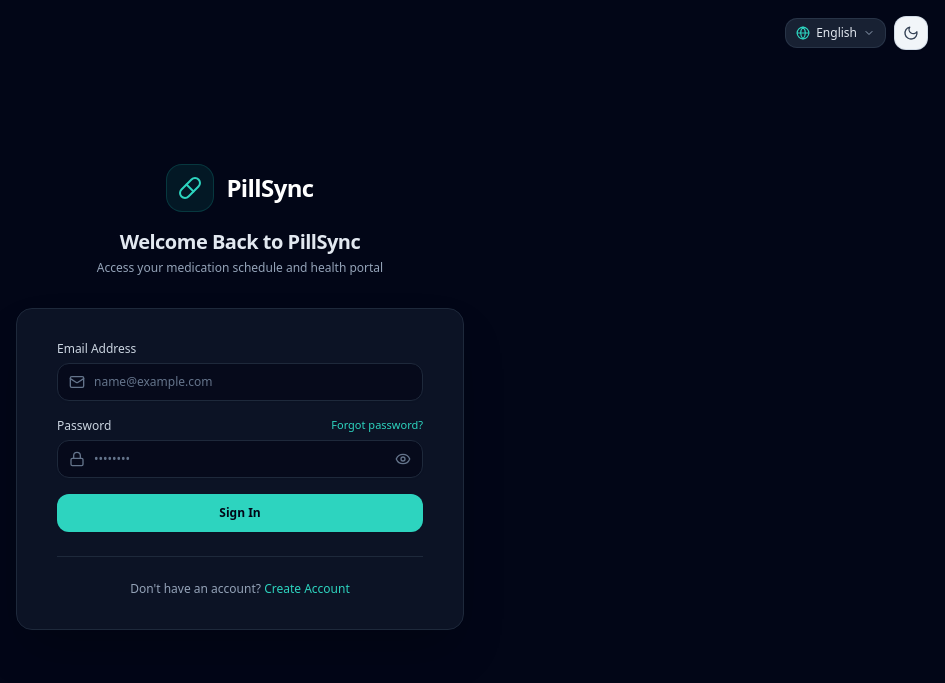
Login Component › displays error message on authentication failure
Type "wrong@example.com" into the field labelled "Email Address".
click(240, 382); type("wrong@example.com")  # box [57,363,423,401]
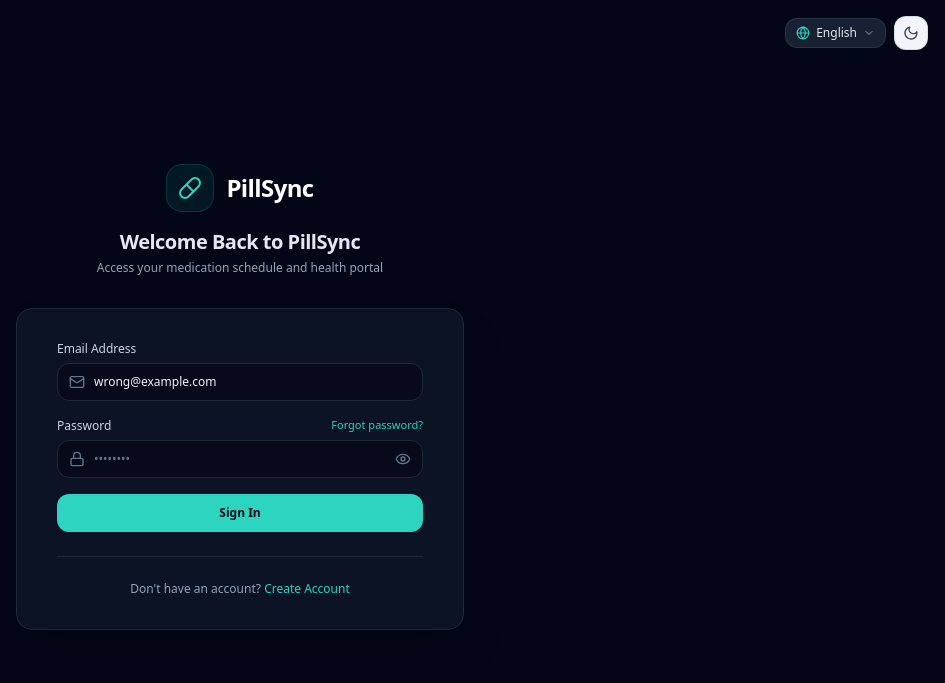
Type "wrongpass" into the password field labelled "Password".
click(240, 459); type("wrongpass")  # box [57,440,423,478]
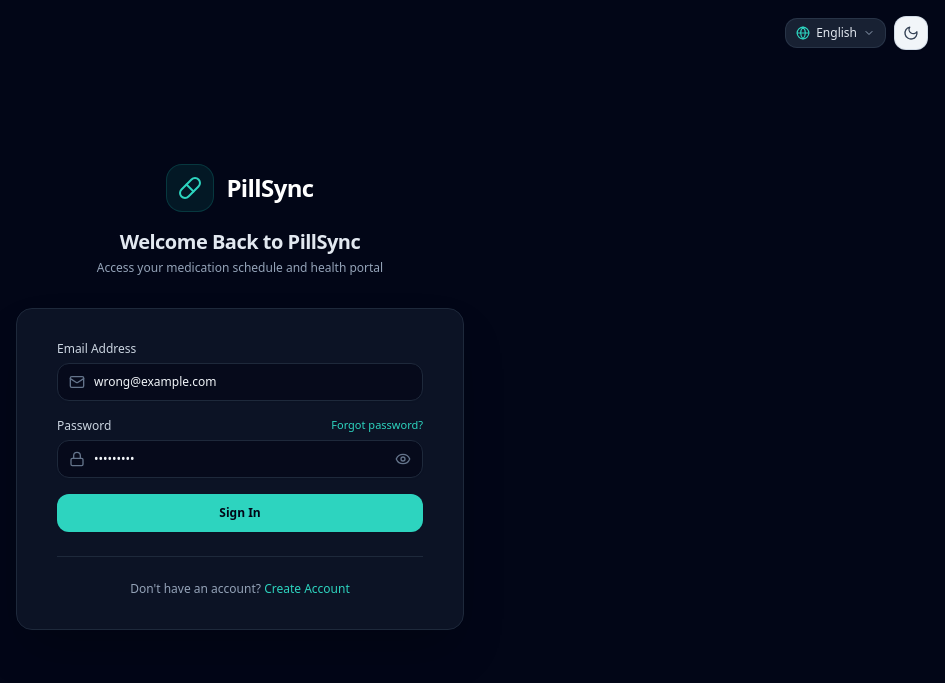
Click the button "Sign In".
click(240, 513)  # box [57,494,423,532]
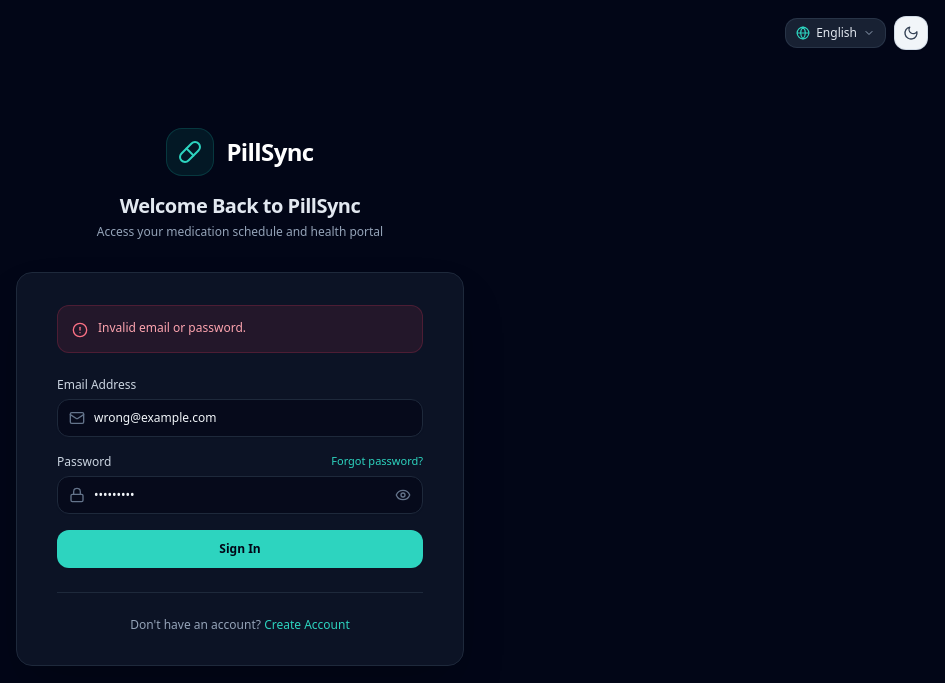
Now the message reads "Invalid email or password.", box [98,319,246,336]
